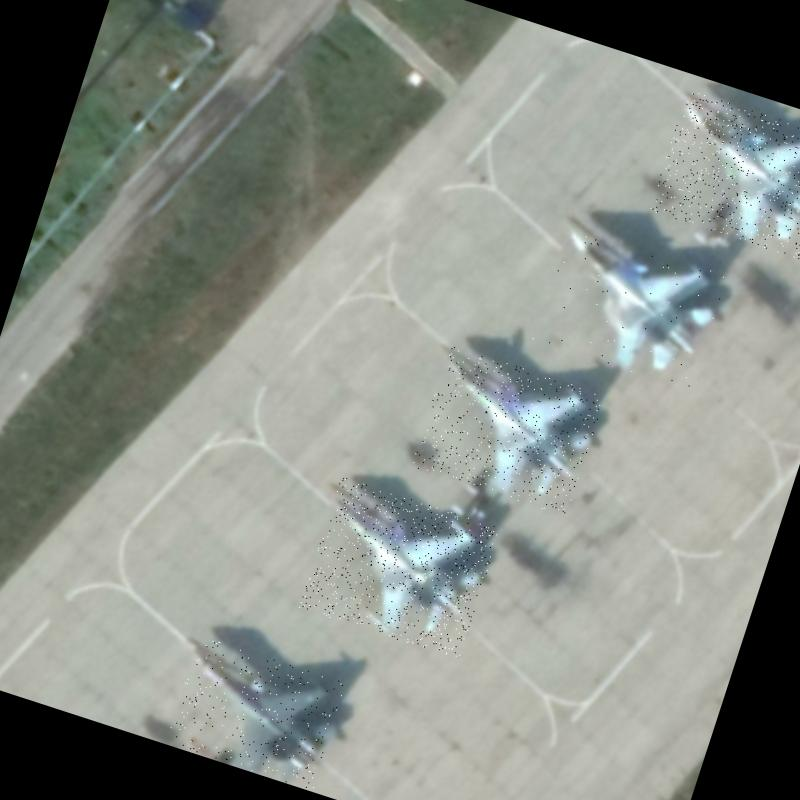A1: (299, 476, 501, 660), (411, 345, 606, 517), (165, 636, 348, 791)
A19: (532, 221, 730, 391), (648, 90, 800, 263)
